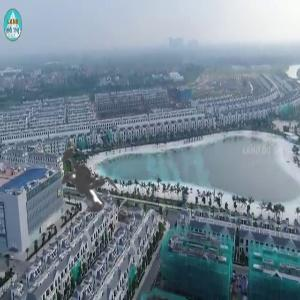drone: (12, 117, 150, 255)
